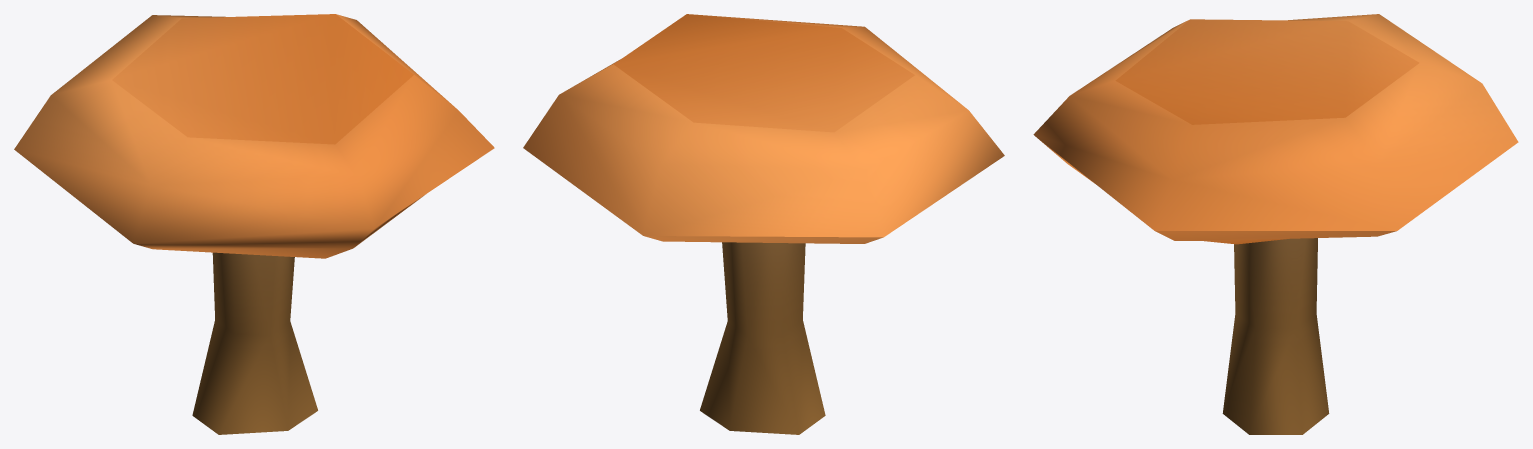
Rendered from Mushroom_Orange.fbx.
3 views of the same model, side by side, from view 1: azimuth 30°, elevation 25°; view 2: azimuth 150°, elevation 25°; view 3: azimuth 270°, elevation 25° (orthographic).
Parts seen in each view (by area): view 1: Mushroom_Orange; view 2: Mushroom_Orange; view 3: Mushroom_Orange.
Boxes of the visible parts, left/top/right/bottom form: Mushroom_Orange: left=14, top=14, right=494, bottom=434; Mushroom_Orange: left=523, top=14, right=1004, bottom=434; Mushroom_Orange: left=1033, top=14, right=1518, bottom=434.
Size of the model in its own units: 0.2188 by 0.2 by 0.2519.
1 material, 1 textured.
